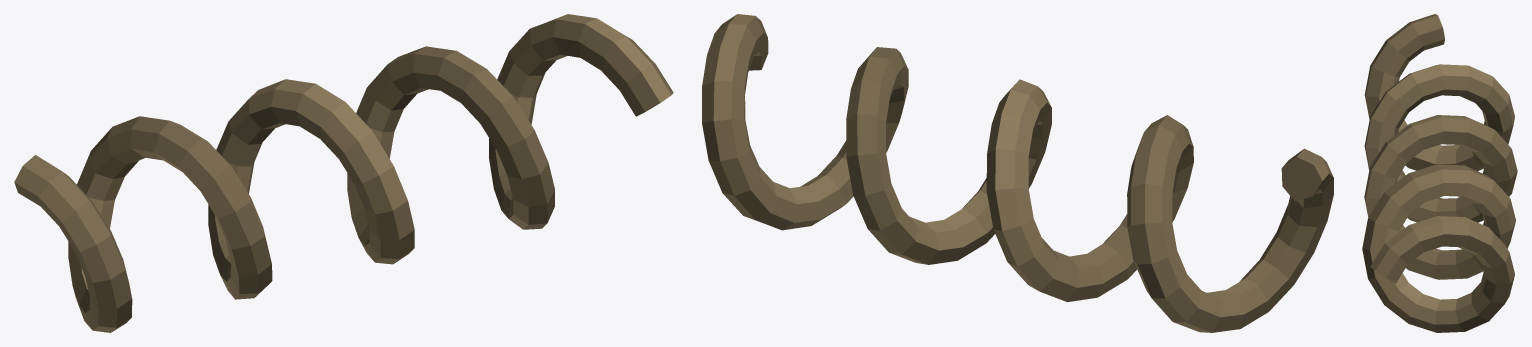
The model's file is strange_thrumroot_core.glb.
3 views of the same model, side by side, from view 1: azimuth 30°, elevation 25°; view 2: azimuth 150°, elevation 25°; view 3: azimuth 270°, elevation 25° (orthographic). The views are drawn at different scales.
Visible parts, largest first — view 1: strange_thrumroot_core; view 2: strange_thrumroot_core; view 3: strange_thrumroot_core.
Boxes of the visible parts, x1,y1,x2,y2 form: strange_thrumroot_core: [14, 14, 673, 332]; strange_thrumroot_core: [702, 14, 1333, 332]; strange_thrumroot_core: [1362, 14, 1517, 332].
Size of the model in its own units: 2.14 by 0.6062 by 0.618.
